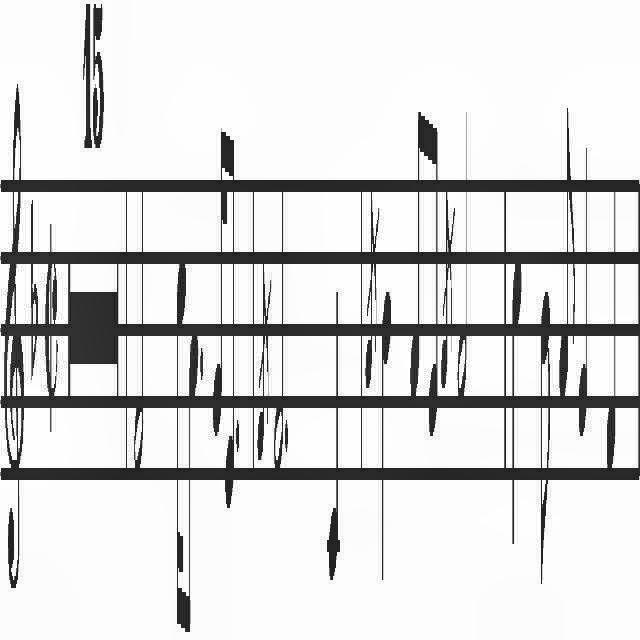Bass-clef: (0, 68, 24, 640)
Bemol: (28, 170, 44, 410)
Eighth-note: (556, 93, 576, 430), (424, 99, 440, 453), (536, 262, 552, 616), (224, 128, 234, 540), (409, 67, 421, 406), (187, 304, 197, 640)
Half-note: (132, 190, 148, 502), (272, 168, 284, 522), (457, 127, 471, 421)
Quarter-note: (510, 220, 526, 568), (604, 158, 618, 534), (326, 282, 342, 610), (575, 149, 591, 463), (380, 253, 392, 622)
Sixteenth-note: (211, 93, 225, 470), (172, 224, 184, 640)
